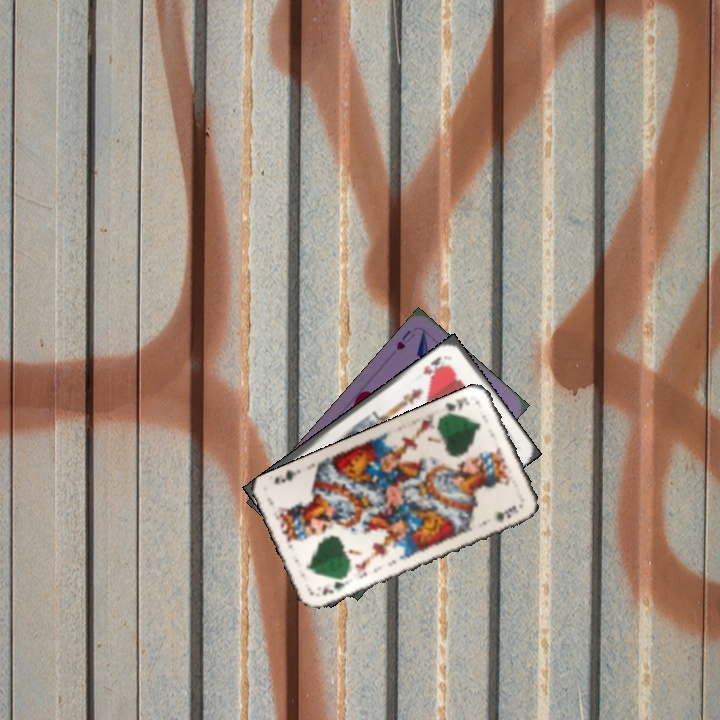GK: (441, 393, 472, 419), (318, 574, 351, 598)
HK: (419, 352, 451, 380)
HU: (392, 326, 417, 353)
